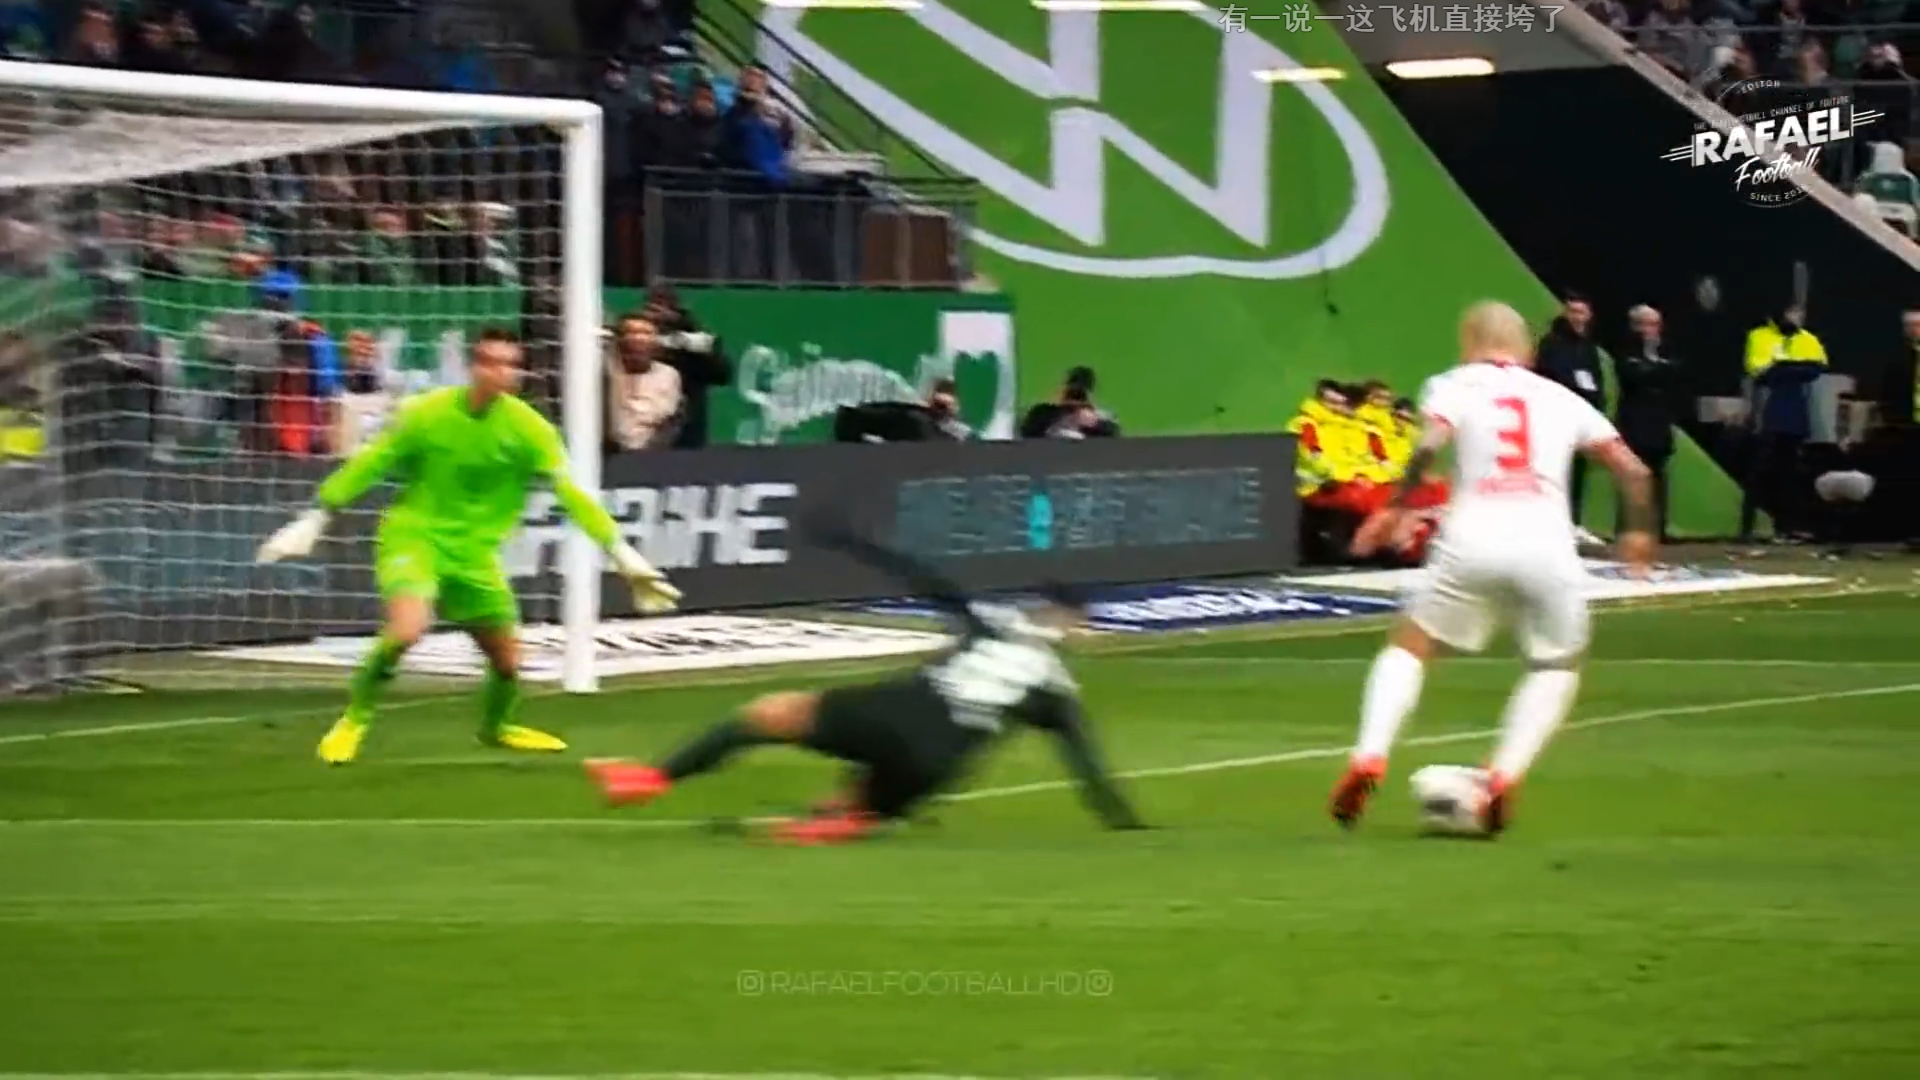ft: (1410, 757, 1484, 847)
